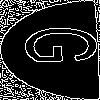G: (24, 25, 100, 65)
